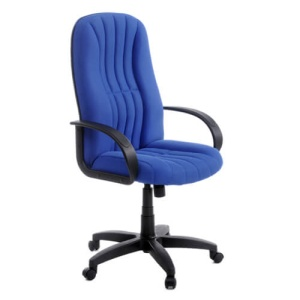chair: (69, 12, 225, 290)
